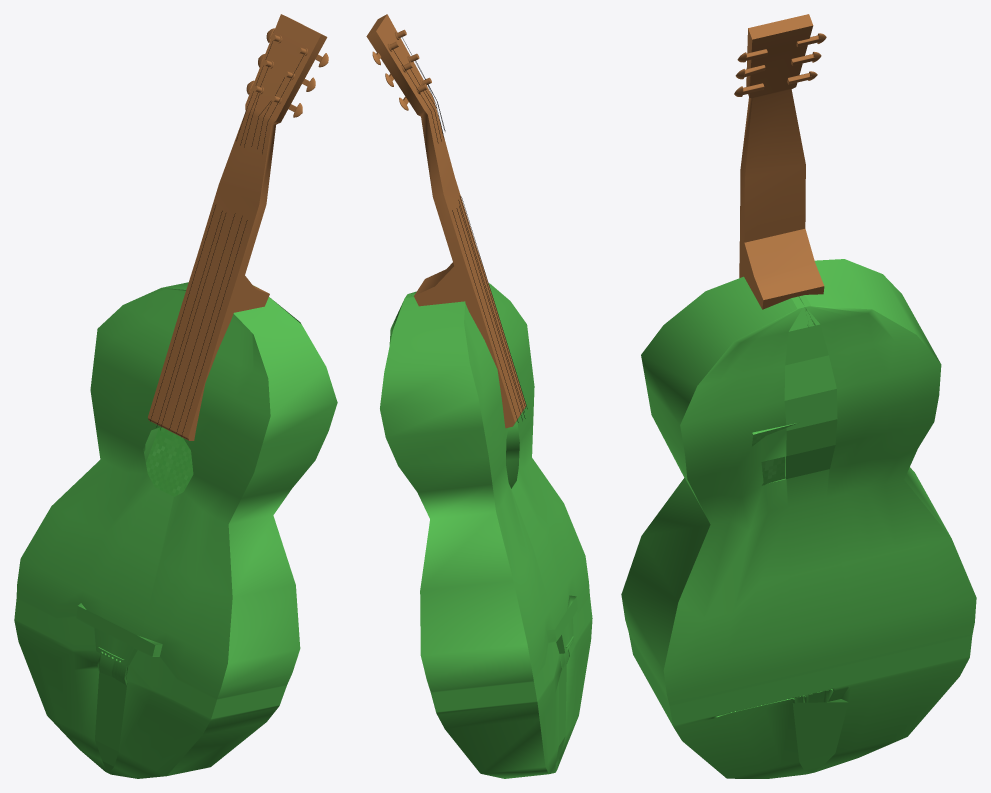
File: Chitarra_2.fbx
3 renders of one model, left to right at view 1: azimuth 30°, elevation 25°; view 2: azimuth 150°, elevation 25°; view 3: azimuth 270°, elevation 25°, orthographic. The views are drawn at different scales.
Parts seen in each view (by area): view 1: Cube.083; view 2: Cube.083; view 3: Cube.083.
Boxes of the visible parts, box(x1,y1,x2,y2) form: Cube.083: box(14, 14, 337, 778); Cube.083: box(366, 14, 592, 778); Cube.083: box(621, 14, 976, 778).
Bounding box in the file's own units: 0.3818 × 1.1 × 0.4205.
3 materials, 2 textured.
